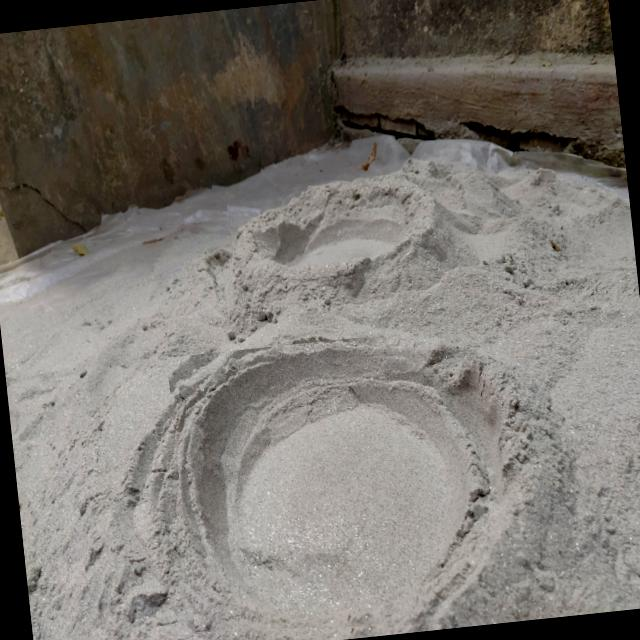C20: (178, 336, 505, 631), (232, 172, 432, 300)
